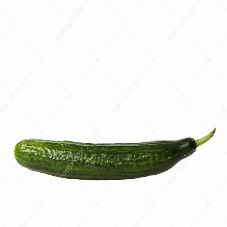cucumber: (11, 136, 198, 179)
